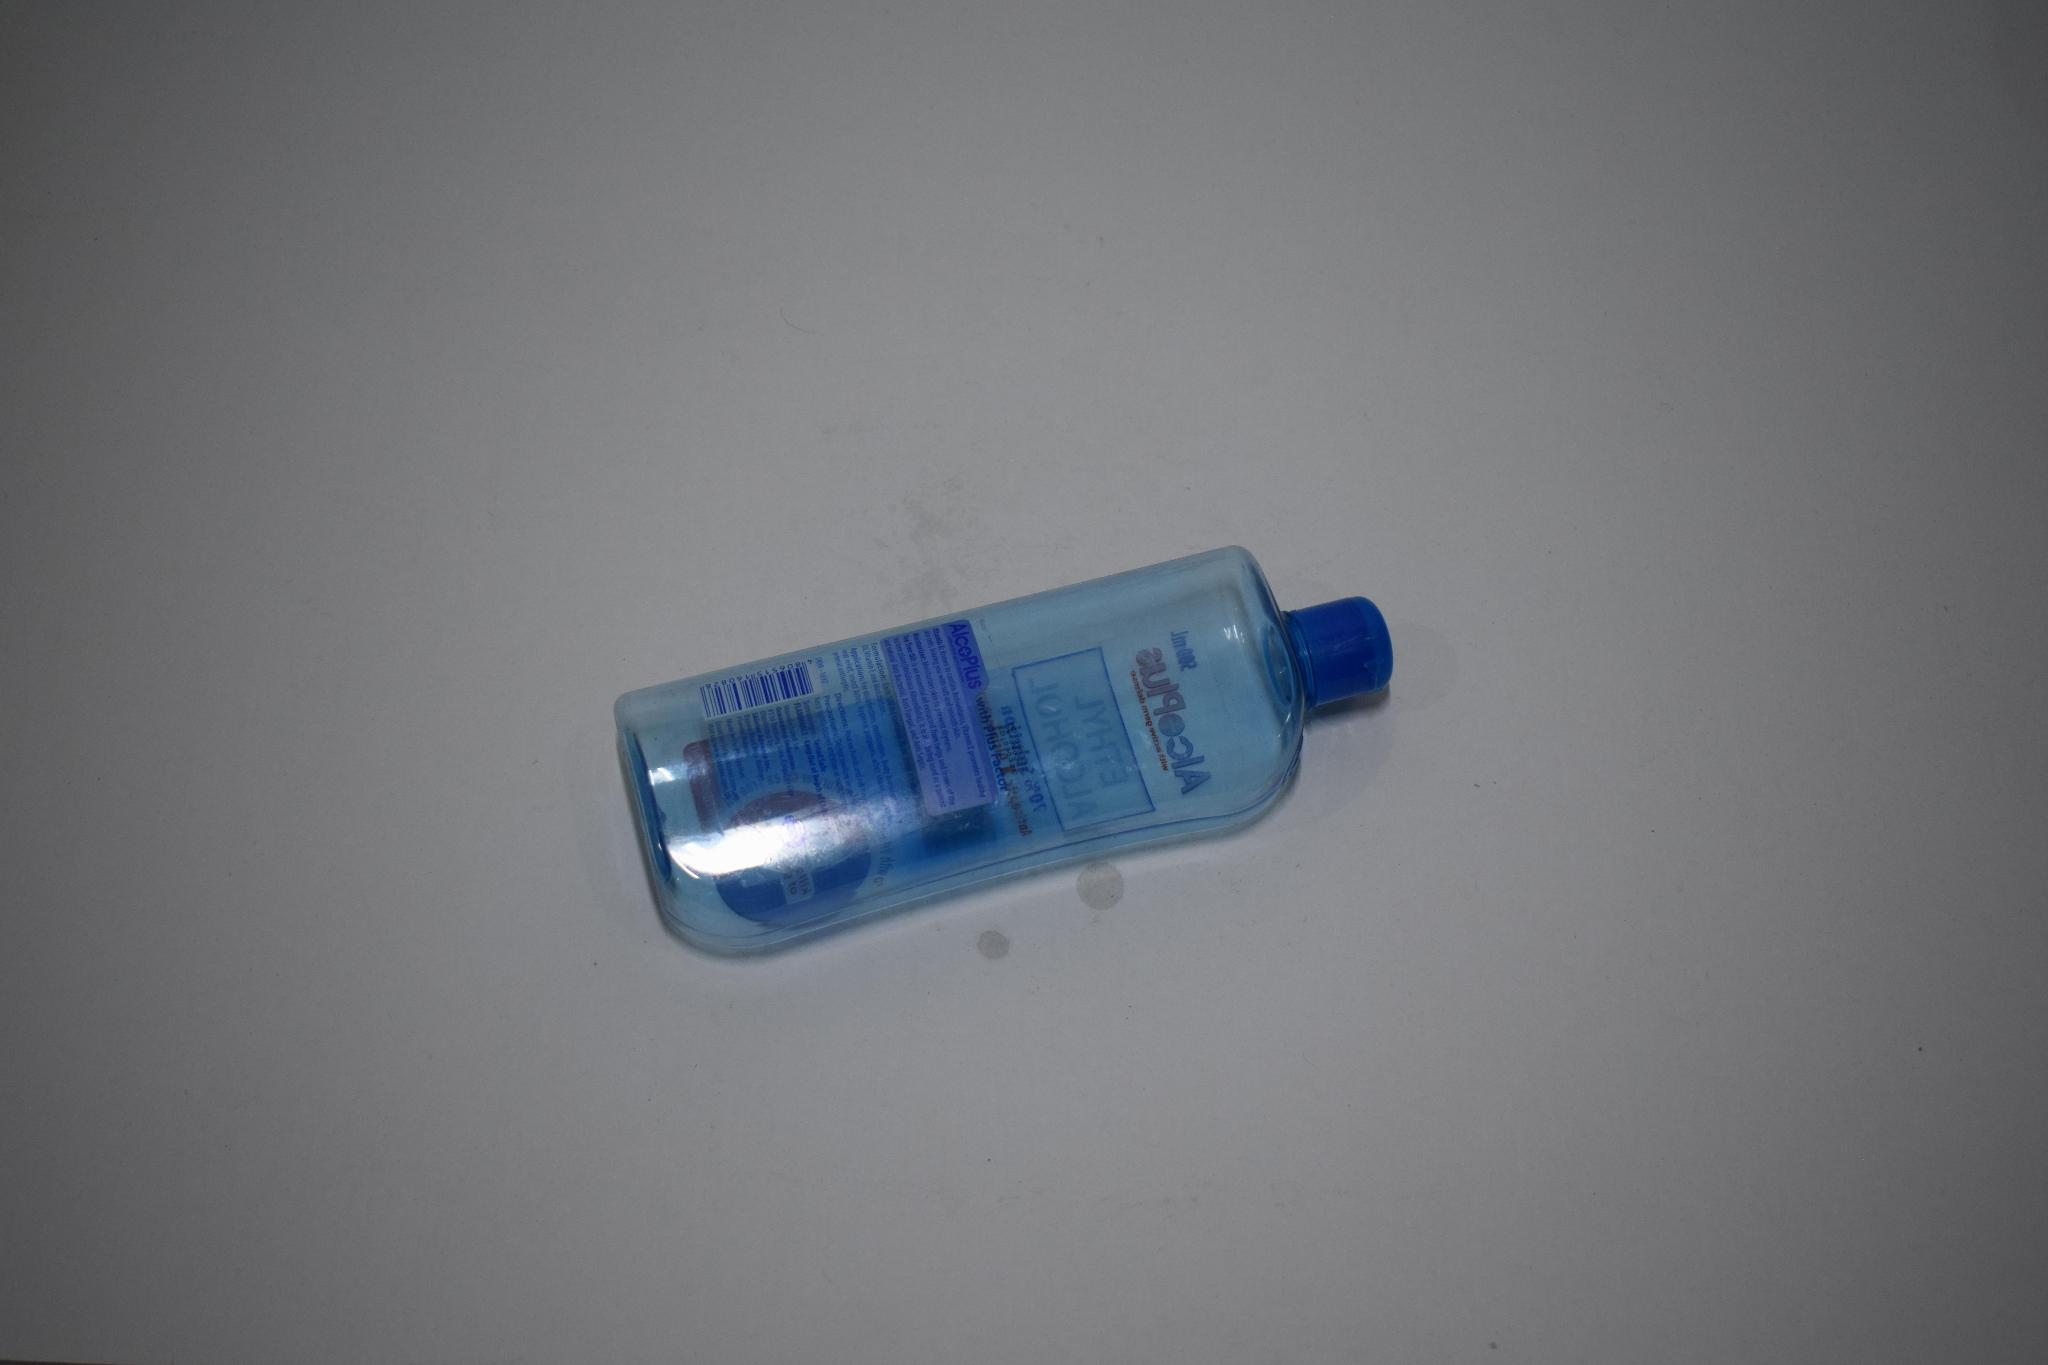bottle: (600, 533, 1427, 972)
